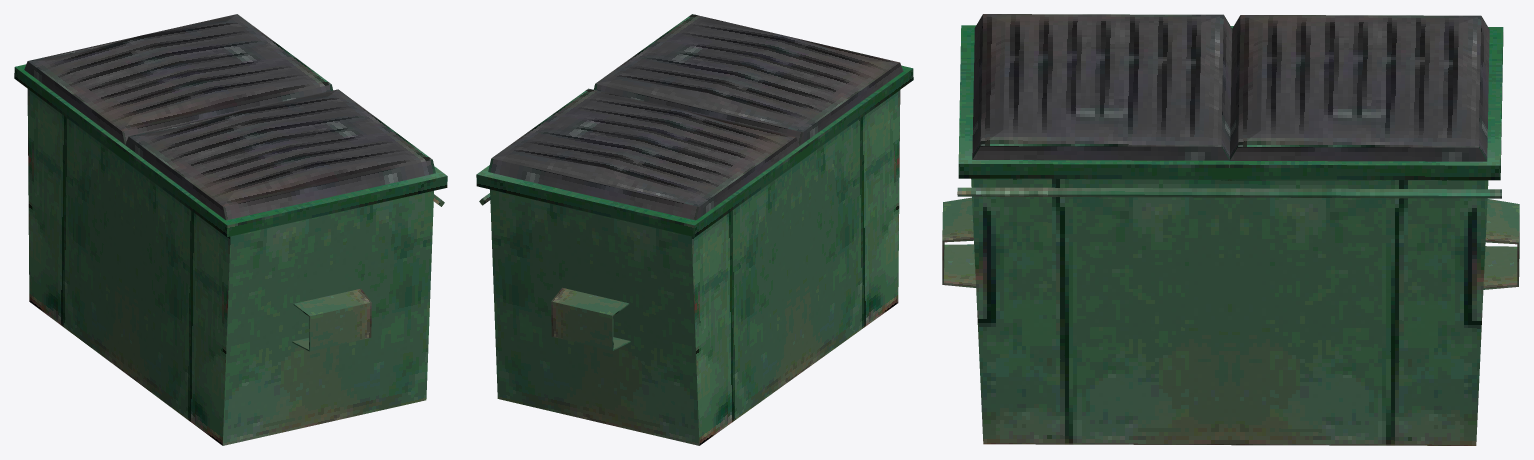
Rendered from dumpster_lid_closed.glb.
The picture shows the model from 3 angles, left to right: view 1: azimuth 30°, elevation 25°; view 2: azimuth 150°, elevation 25°; view 3: azimuth 270°, elevation 25°; orthographic projection. The views are drawn at different scales.
Visible parts, largest first — view 1: dumpster_lid_closed; view 2: dumpster_lid_closed; view 3: dumpster_lid_closed.
Part boxes in pixels (x1,y1,x2,y2): dumpster_lid_closed: [14, 14, 447, 445]; dumpster_lid_closed: [476, 14, 913, 445]; dumpster_lid_closed: [942, 14, 1519, 445].
Size of the model in its own units: 2.06 by 2.21 by 3.68.
Materials: 1 (1 with a texture image).
